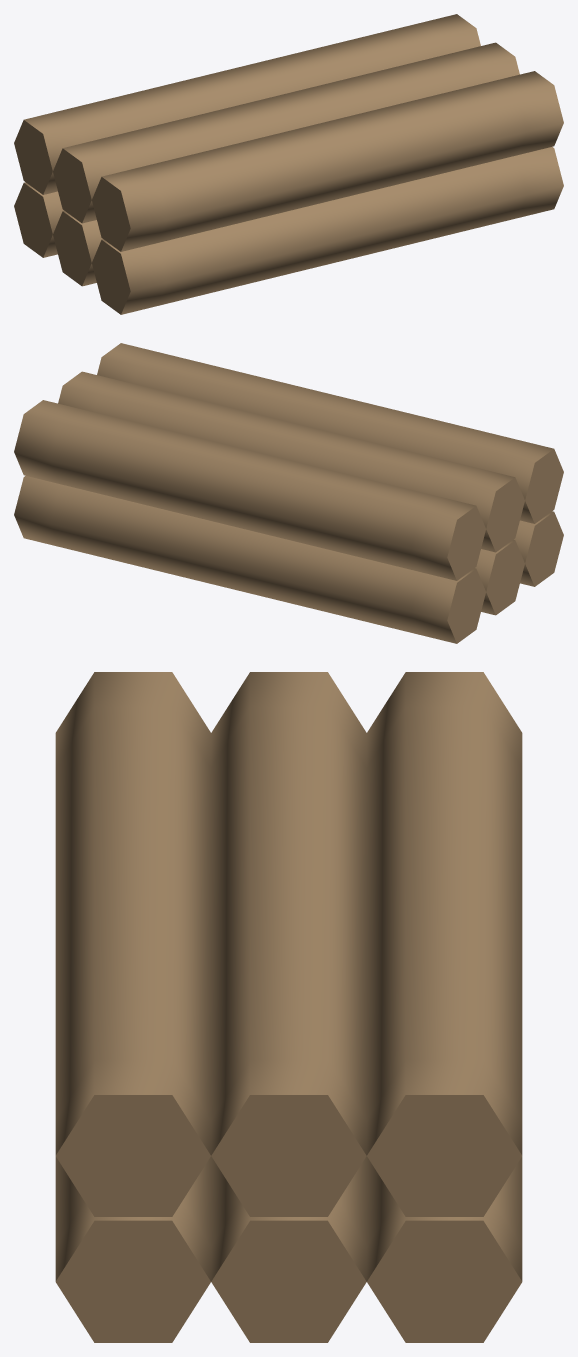
File: zoo-and-safari-park-builder-log-pile-1e9474b9__21465.glb
3 views of the same model, one above another, from view 1: azimuth 30°, elevation 25°; view 2: azimuth 150°, elevation 25°; view 3: azimuth 270°, elevation 25° (orthographic). The views are drawn at different scales.
Parts seen in each view (by area): view 1: log-pile; view 2: log-pile; view 3: log-pile.
Part boxes in pixels (<box>): log-pile: <box>14,14,563,314</box>; log-pile: <box>14,343,563,643</box>; log-pile: <box>55,672,522,1342</box>.
Size of the model in its own units: 1.8 by 0.4925 by 0.8399.
